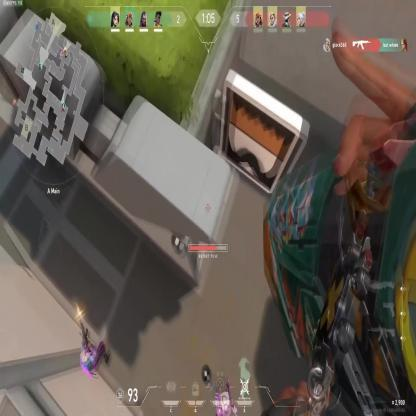enemy: (76, 328, 110, 378), (213, 388, 234, 416)
enemy_head: (80, 349, 87, 361)
